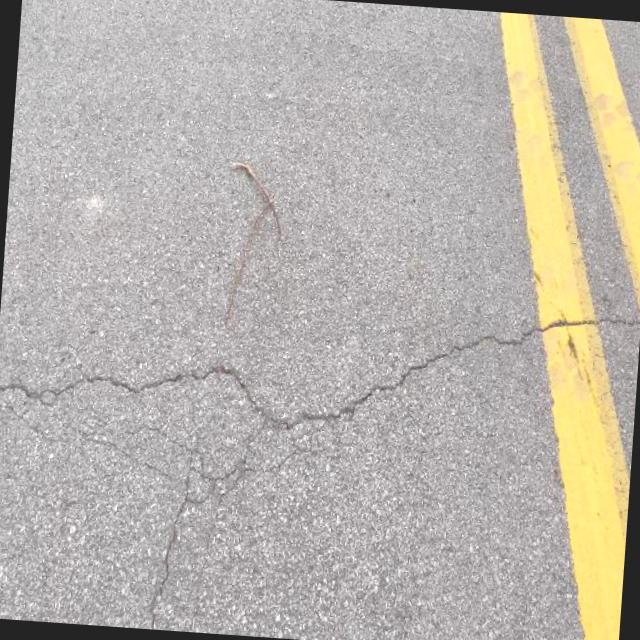Retak-Buaya: (12, 405, 329, 625)
Retak-Melintang: (4, 315, 640, 427)
